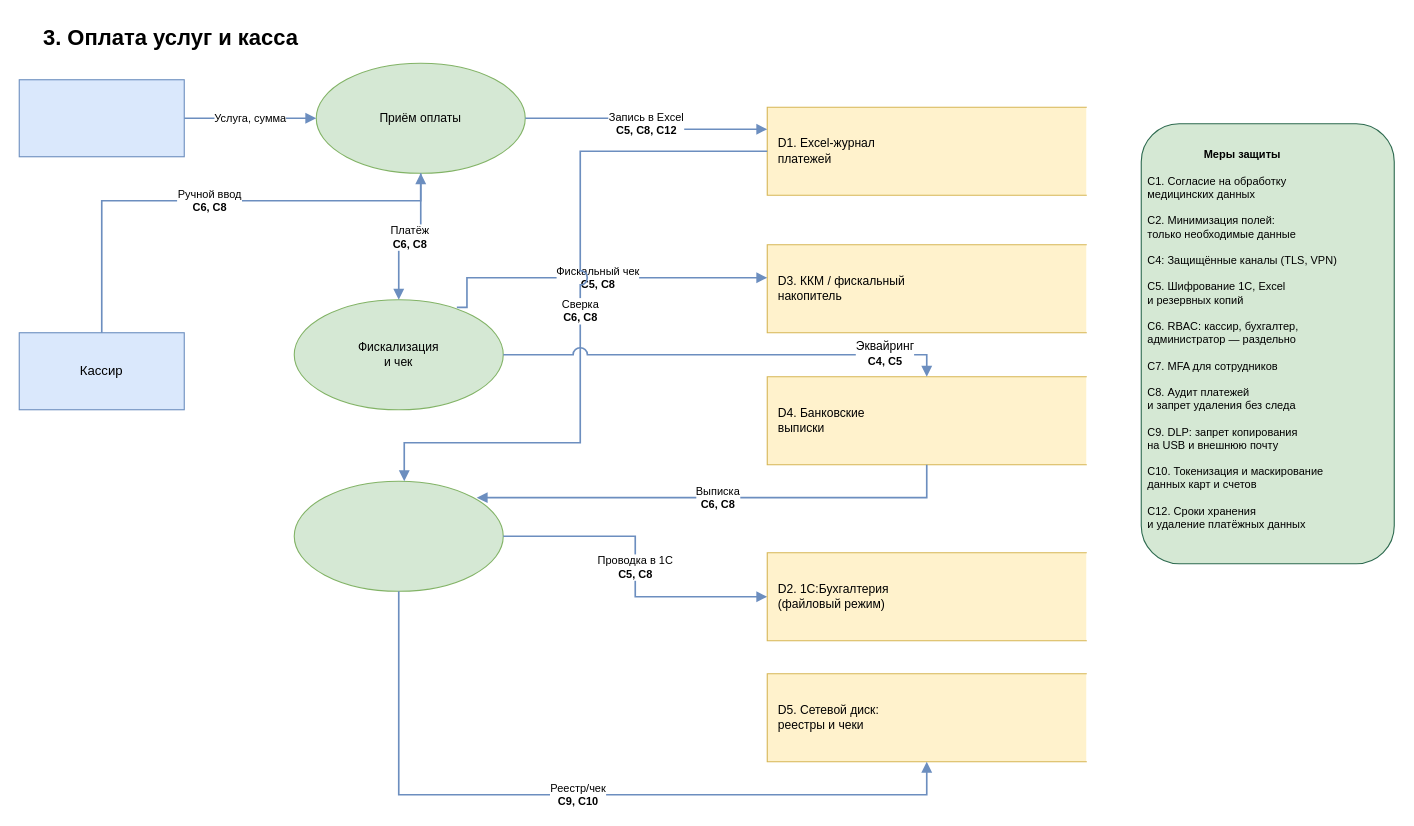
This 1414x826 diagram has some shape labels left out. Here are the shapes that lost their labels. From the top down, the centre of each, then its label:
(101,118): Пациент
(398,535): Двойной учёт Excel + 1С
